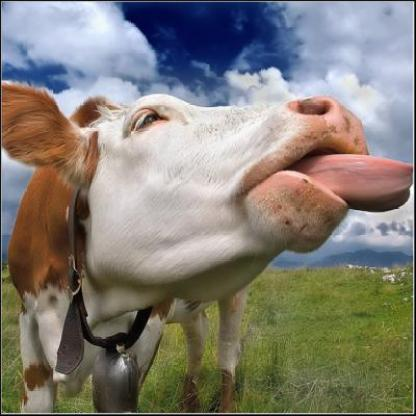lower: (299, 211, 323, 230)
mouth: (256, 95, 364, 255)
upper: (318, 118, 334, 137)
